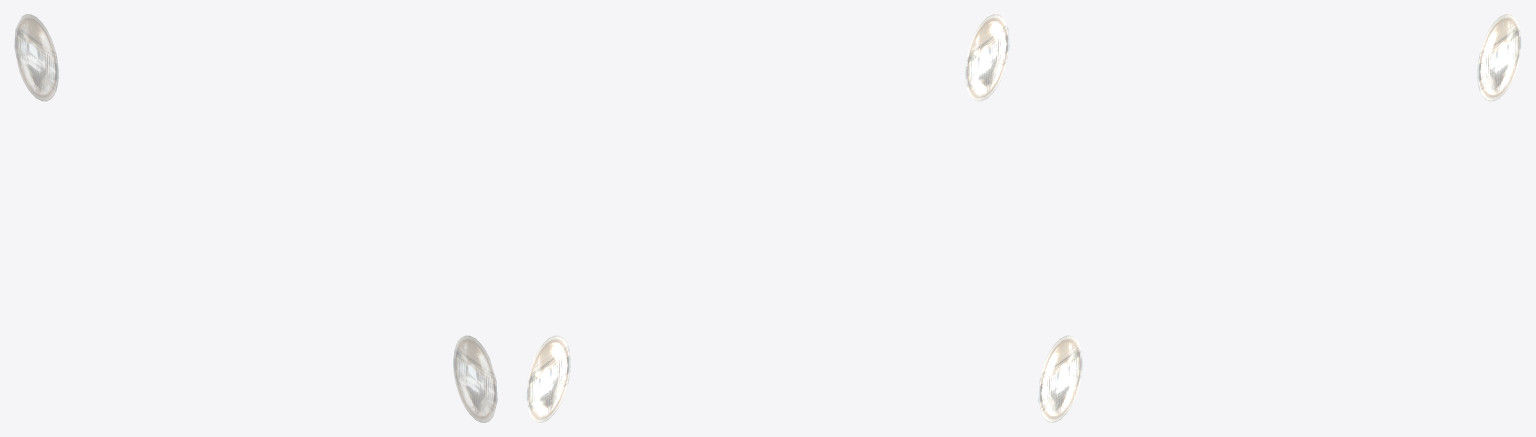
File: lamp.glb
3 renders of one model, left to right at view 1: azimuth 30°, elevation 25°; view 2: azimuth 150°, elevation 25°; view 3: azimuth 330°, elevation 25°, orthographic.
Visible parts, largest first — view 1: LAMP; view 2: LAMP; view 3: LAMP.
Boxes of the visible parts, left/top/right/bottom form: LAMP: left=14, top=14, right=497, bottom=422; LAMP: left=526, top=14, right=1009, bottom=422; LAMP: left=1038, top=14, right=1521, bottom=422.
Bounding box in the file's own units: 9.54e-07 × 0.257 × 2.77.
1 material, 1 textured.
